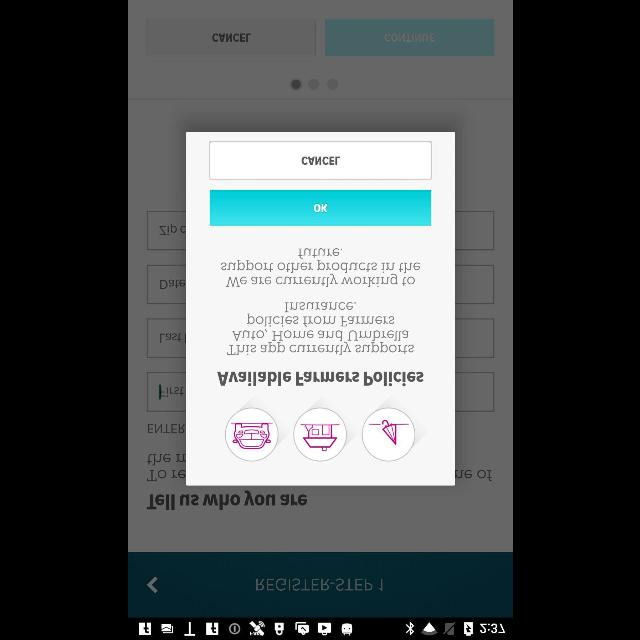icon: (146, 576, 158, 594)
image: (361, 407, 415, 461), (225, 407, 278, 461), (292, 408, 346, 460)
pageindicator: (288, 77, 338, 91)
panel: (186, 132, 454, 486)
text: (226, 302, 412, 354), (220, 248, 420, 288), (146, 490, 306, 510), (216, 372, 424, 386), (255, 578, 382, 590)
textbutton: (209, 141, 431, 179), (210, 190, 430, 226), (324, 18, 494, 56), (145, 18, 315, 56)
uppertaskbar: (128, 617, 512, 639)
